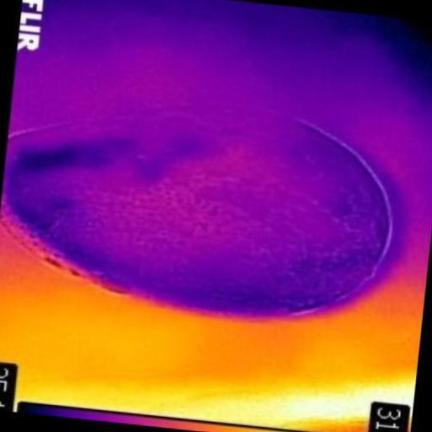mango: (0, 108, 390, 315)
